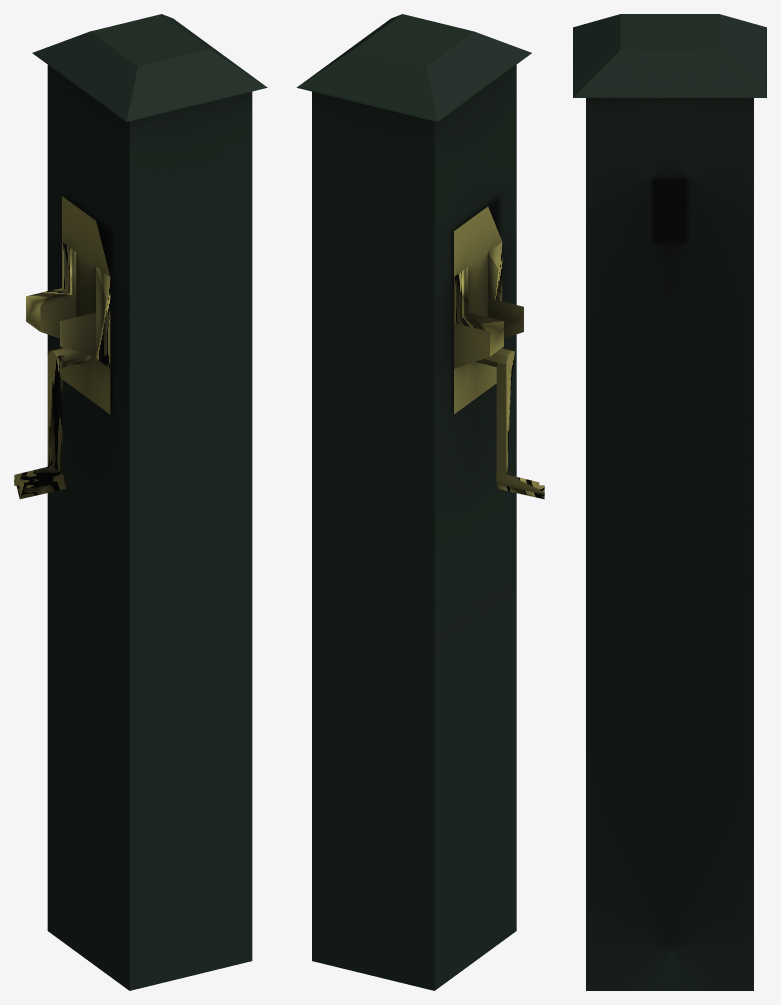
The model's file is TennisPoleL.fbx.
3 renders of one model, left to right at view 1: azimuth 30°, elevation 25°; view 2: azimuth 150°, elevation 25°; view 3: azimuth 270°, elevation 25°, orthographic. The views are drawn at different scales.
Parts seen in each view (by area): view 1: TennisNetPole; view 2: TennisNetPole; view 3: TennisNetPole.
Boxes of the visible parts, x1,y1,x2,y2 form: TennisNetPole: (14, 14, 267, 990); TennisNetPole: (296, 14, 544, 990); TennisNetPole: (573, 14, 766, 990).
Size of the model in its own units: 0.3312 by 1.43 by 0.2701.
